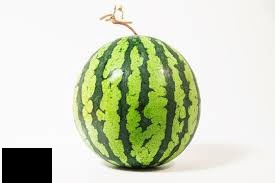watermelon: (70, 34, 201, 170)
